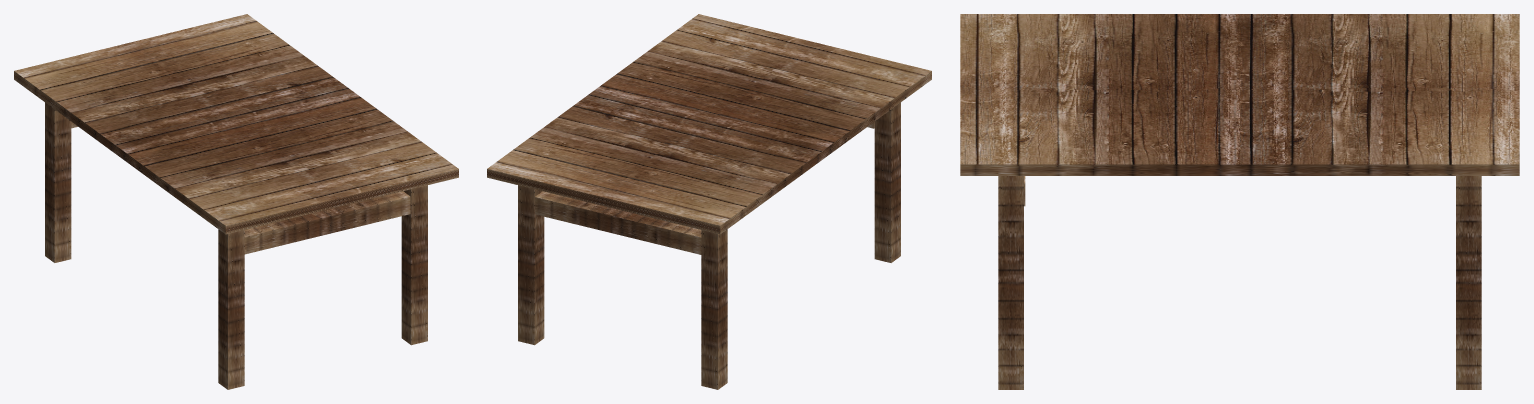
File: table2.obj
3 renders of one model, left to right at view 1: azimuth 30°, elevation 25°; view 2: azimuth 150°, elevation 25°; view 3: azimuth 270°, elevation 25°, orthographic. The views are drawn at different scales.
Visible parts, largest first — view 1: Platte, Bein, Stütze_1, Bein_2, Bein_1; view 2: Platte, Stütze, Bein_2, Bein, Bein_3; view 3: Platte, Bein_1, Bein_3.
Part boxes in pixels (x1,y1,x2,y2): Platte: (14, 14, 458, 234); Bein: (218, 229, 244, 389); Stütze_1: (244, 191, 410, 254); Bein_2: (45, 102, 71, 262); Bein_1: (401, 185, 427, 345); Platte: (487, 14, 931, 234); Stütze: (535, 191, 701, 254); Bein_2: (701, 229, 727, 389); Bein: (874, 102, 900, 262); Bein_3: (518, 185, 544, 345); Platte: (960, 14, 1519, 175); Bein_1: (998, 176, 1023, 389); Bein_3: (1456, 176, 1481, 389).
Size of the model in its own units: 4200 by 3076 by 6600.
2 materials, 2 textured.
